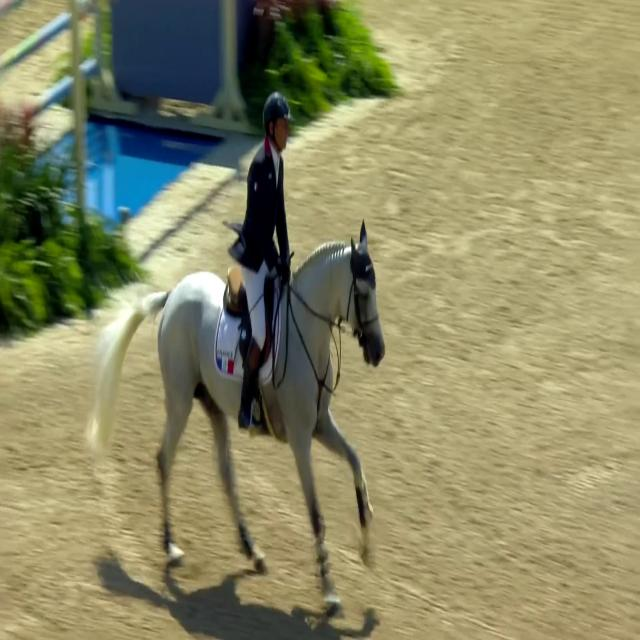Horse Rider: (234, 84, 302, 447)
Horse Running: (92, 208, 402, 620)
